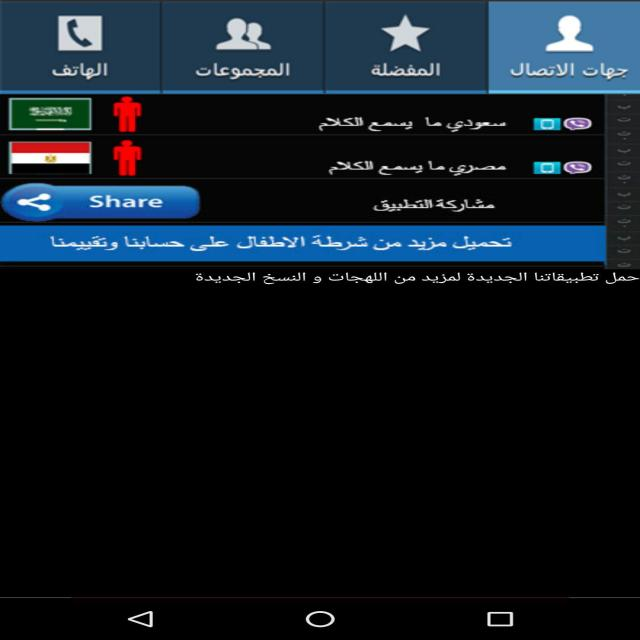button: (0, 226, 607, 262), (0, 1, 162, 93), (164, 1, 324, 94), (326, 2, 487, 93), (489, 2, 640, 94), (0, 181, 203, 222)
icon: (357, 11, 456, 57), (520, 11, 614, 58), (42, 14, 118, 55), (207, 16, 284, 54), (1, 181, 66, 221), (102, 94, 153, 136), (106, 139, 152, 178), (526, 115, 566, 134), (528, 158, 564, 178), (560, 115, 596, 134), (562, 158, 595, 178)
image: (3, 140, 98, 178), (2, 96, 98, 133)
text: (39, 232, 523, 255), (185, 268, 640, 288), (305, 112, 513, 134), (320, 158, 510, 178), (180, 57, 304, 83), (500, 60, 631, 82), (366, 195, 500, 215), (30, 58, 132, 84), (357, 60, 464, 80), (80, 192, 169, 212)
